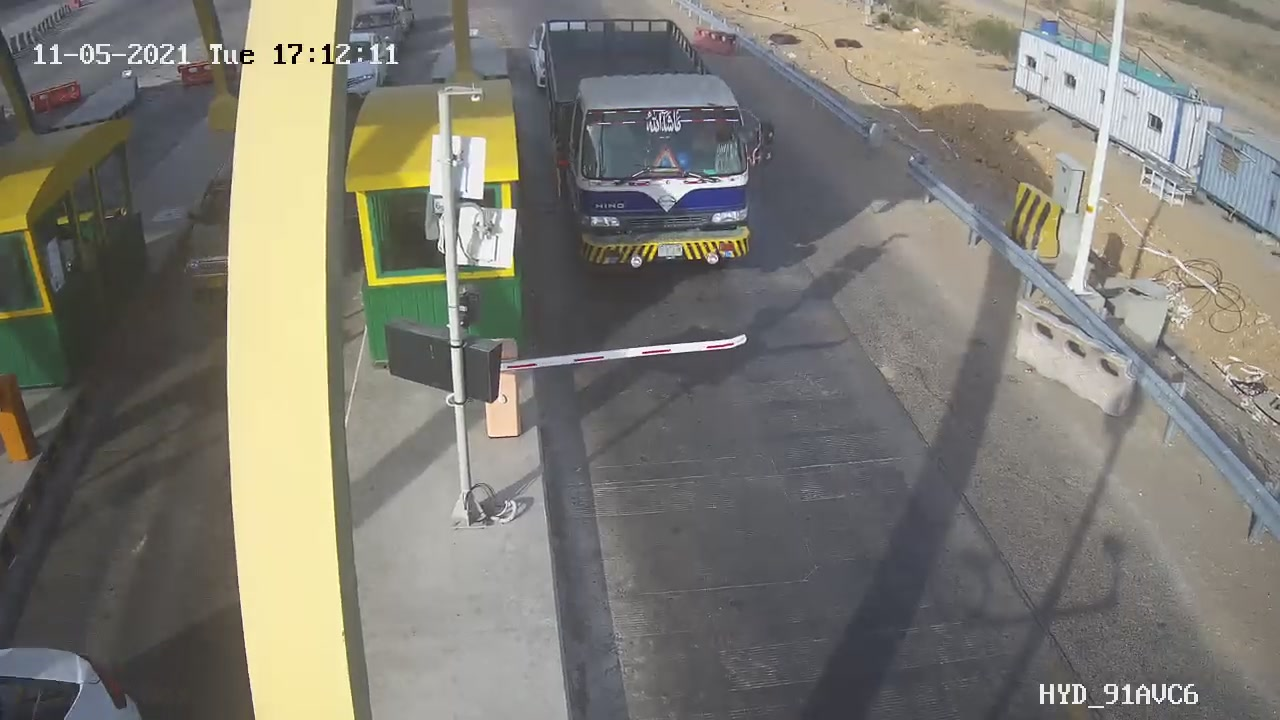F5: (531, 7, 794, 294)
